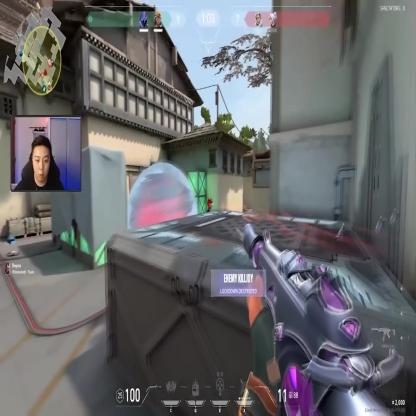enemy: (208, 196, 212, 221)
enemy_head: (209, 197, 210, 200)
